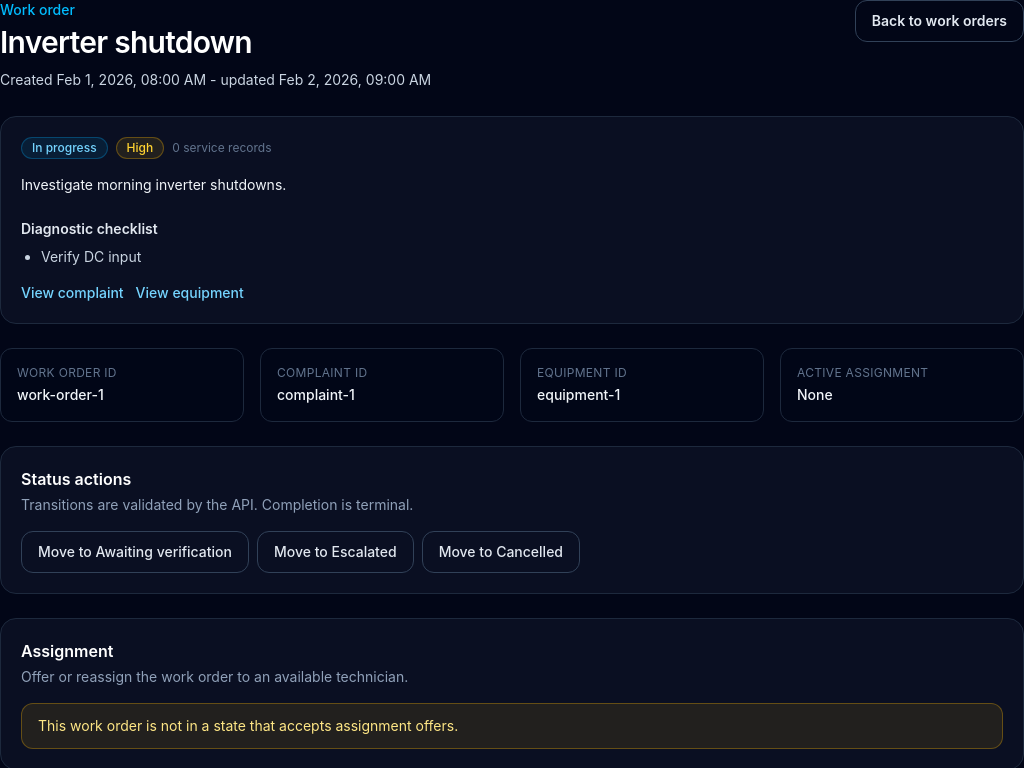
work-order lifecycle errors are mapped and do not mutate local state
Step 1. Click the button "Move to Awaiting verification" → (135, 552), box [21,531,249,573]
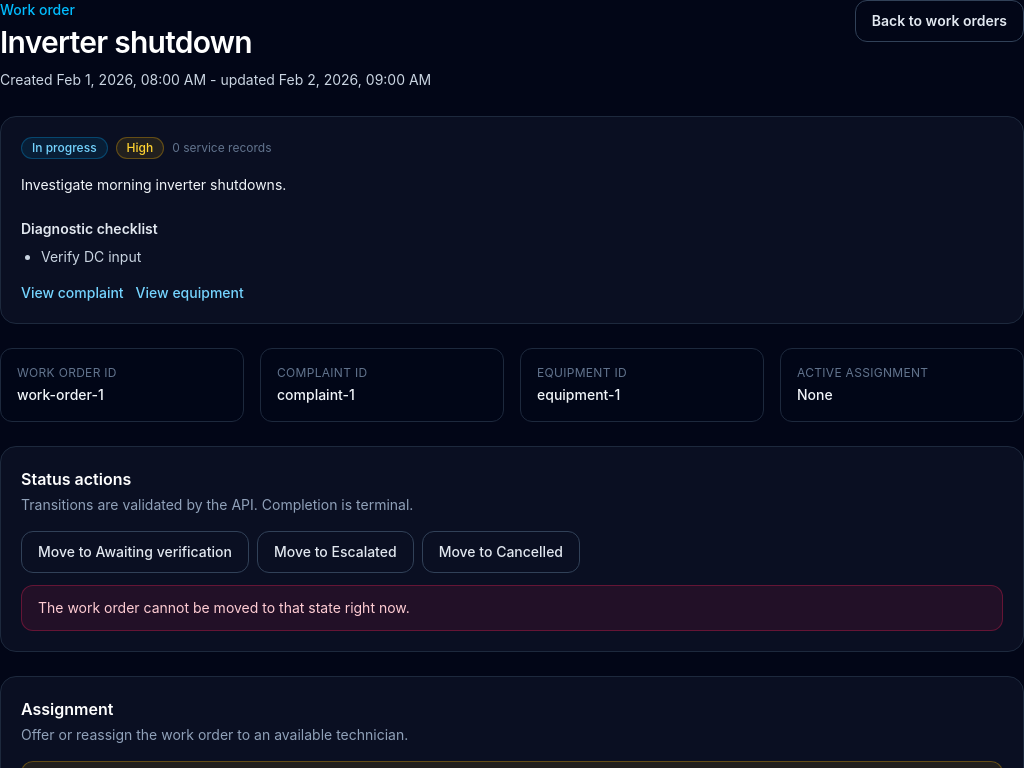
Expected: the text "In progress" is shown, [21,137,108,159]
Expected: the text "The work order cannot be moved to that state right now." is shown, [21,585,1003,631]
